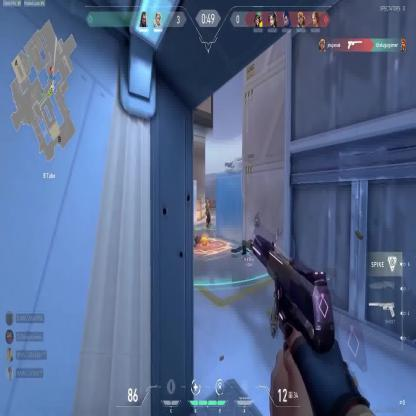enemy: (205, 198, 211, 229)
enemy_head: (207, 199, 209, 204)
